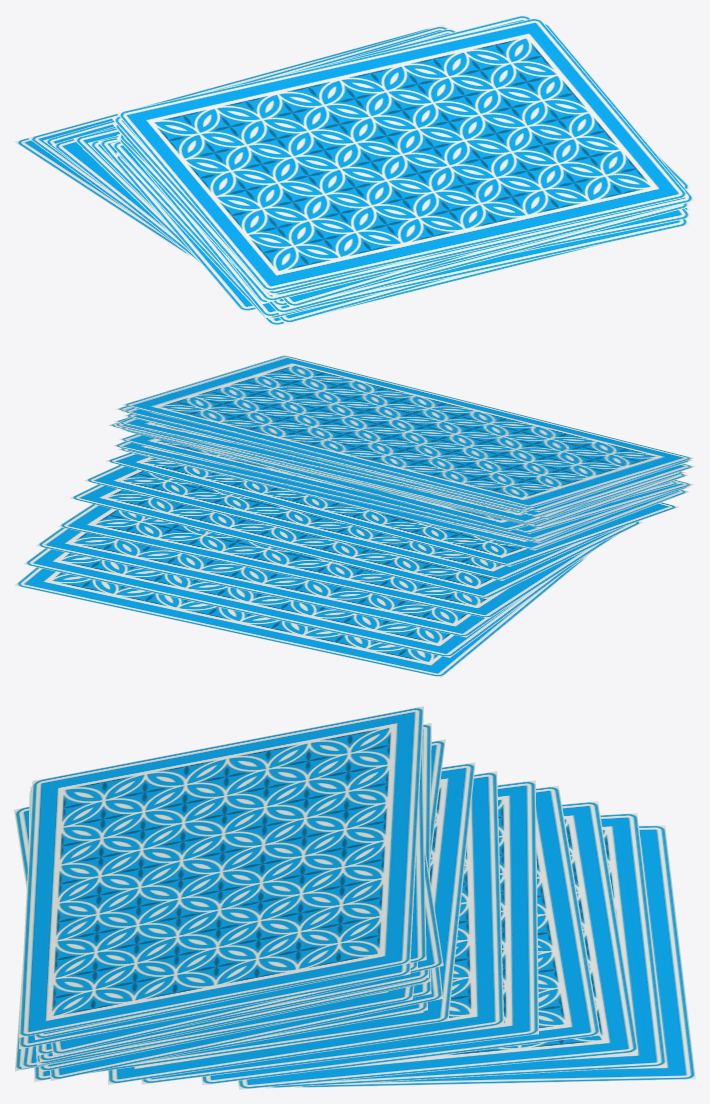
3 renders of one model, top to bottom at view 1: azimuth 30°, elevation 25°; view 2: azimuth 150°, elevation 25°; view 3: azimuth 270°, elevation 25°, orthographic. The views are drawn at different scales.
Parts seen in each view (by area): view 1: Cards; view 2: Cards; view 3: Cards.
Part boxes in pixels (x1,y1,x2,y2): Cards: [14, 14, 695, 326]; Cards: [14, 355, 695, 677]; Cards: [14, 706, 695, 1089].
Bounding box in the file's own units: 1.59 × 0.3438 × 1.7.
1 material, 1 textured.
